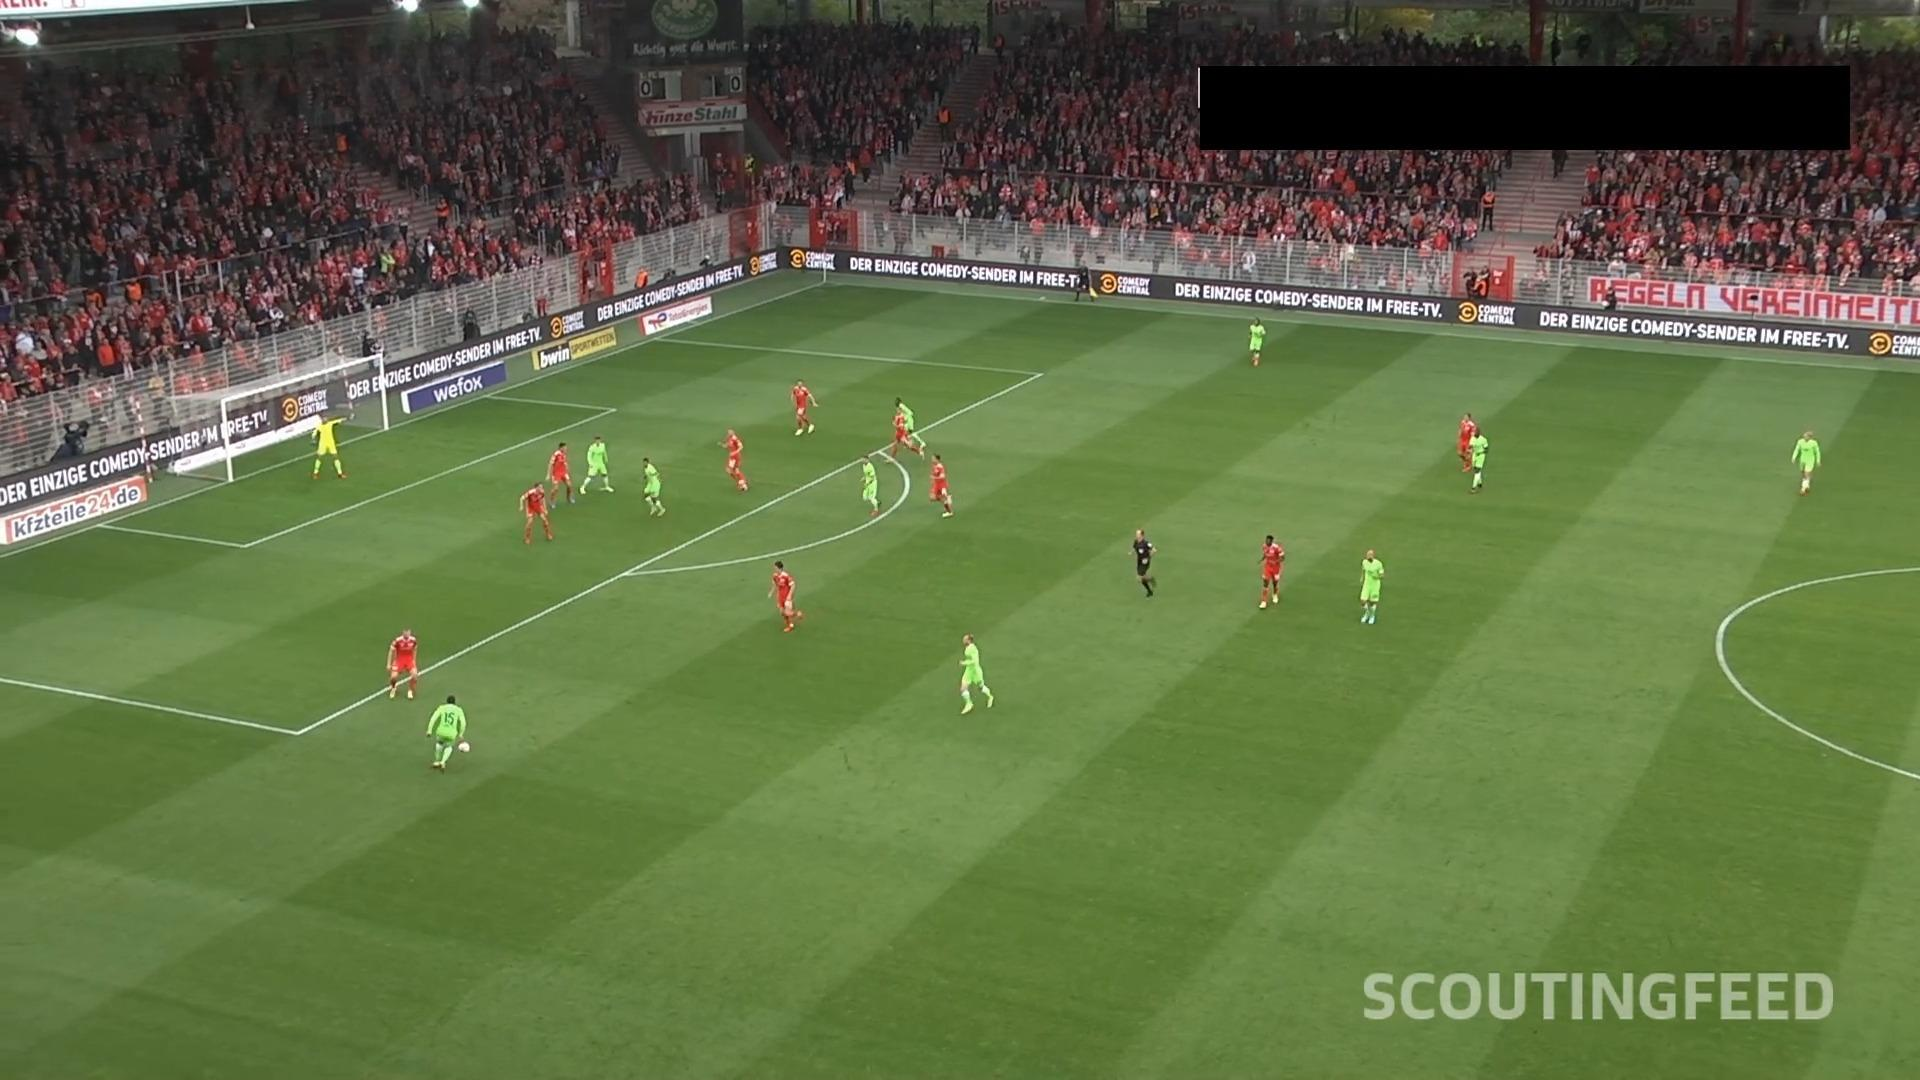ball: (458, 740, 472, 754)
